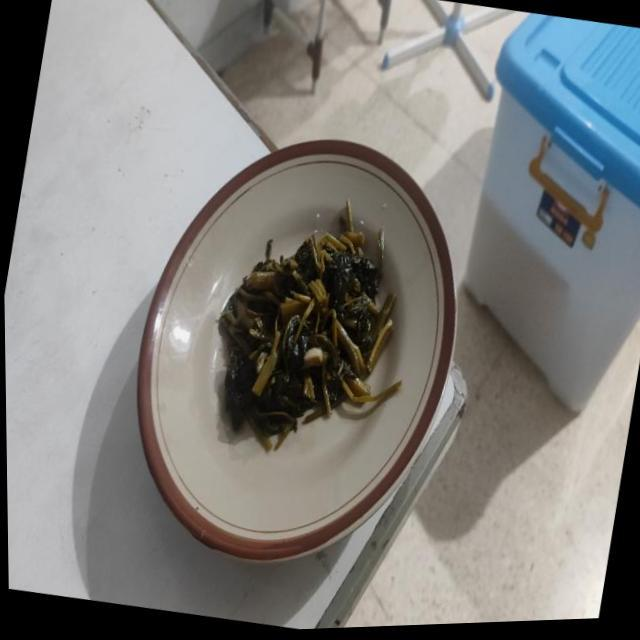tumis_kangkung: (220, 200, 400, 450)
